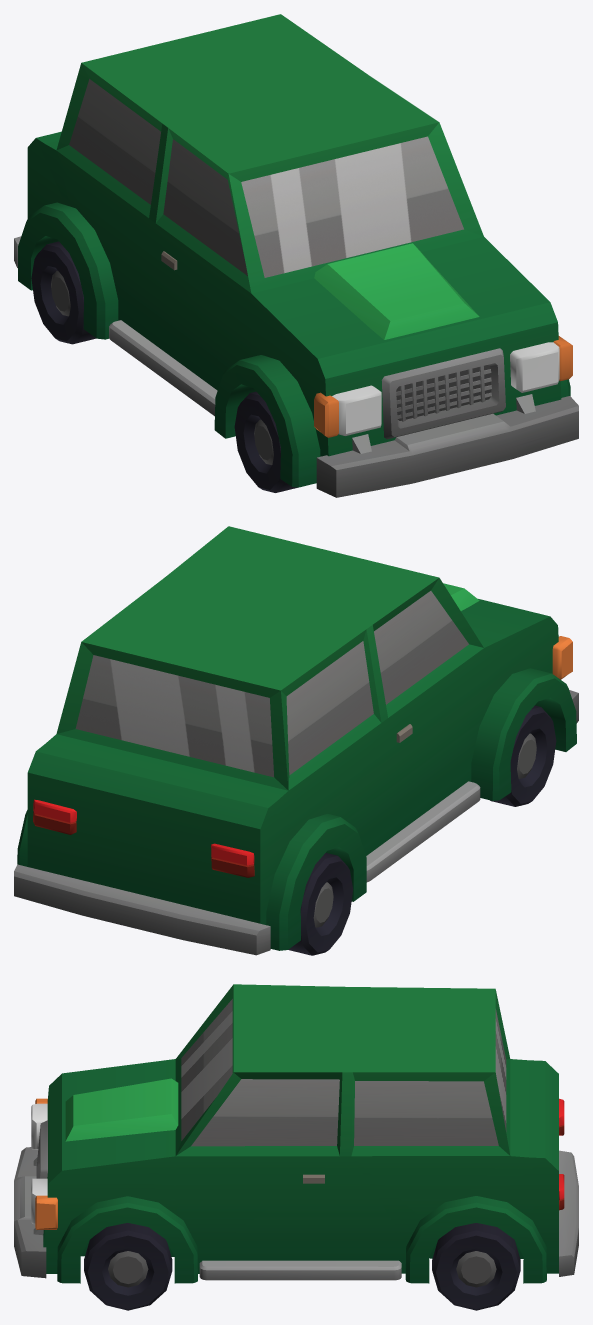
File: Car_3_14.fbx
3 views of the same model, one above another, from view 1: azimuth 30°, elevation 25°; view 2: azimuth 150°, elevation 25°; view 3: azimuth 270°, elevation 25° (orthographic). The views are drawn at different scales.
Visible parts, largest first — view 1: Car_3_14, Wheel_Br, Wheel_Fr; view 2: Car_3_14, Wheel_Br, Wheel_Fr; view 3: Car_3_14, Wheel_Bl, Wheel_Fl.
Boxes of the visible parts, x1=… form: Car_3_14: x1=14, y1=14, x2=578, y2=497; Wheel_Br: x1=31, y1=241, x2=96, y2=344; Wheel_Fr: x1=234, y1=391, x2=297, y2=492; Car_3_14: x1=14, y1=526, x2=578, y2=955; Wheel_Br: x1=288, y1=853, x2=353, y2=955; Wheel_Fr: x1=490, y1=705, x2=556, y2=806; Car_3_14: x1=14, y1=984, x2=578, y2=1283; Wheel_Bl: x1=432, y1=1223, x2=520, y2=1310; Wheel_Fl: x1=84, y1=1223, x2=172, y2=1310.
Bounding box in the file's own units: 1.13 × 1.02 × 2.3.
